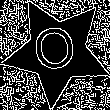O_S: (31, 22, 83, 81)
